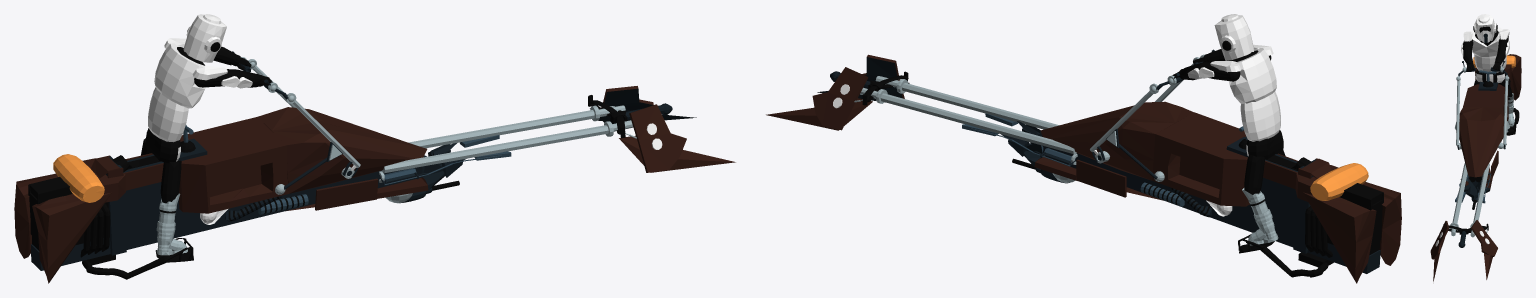
3 views of the same model, side by side, from view 1: azimuth 30°, elevation 25°; view 2: azimuth 150°, elevation 25°; view 3: azimuth 270°, elevation 25° (orthographic). The views are drawn at different scales.
Parts seen in each view (by area): view 1: group1816002256, group1112885490, group951486864, group912648688, group1312874558, group890993269, group1796693711, group1976790903, group56846059, group1101889256, group330822891, group992727759 (+17 smaller); view 2: group1816002256, group992727759, group951486864, group912648688, group540495380, group890993269, group1976790903, group1796693711, group330822891, group1312874558, group56846059, group1101889256 (+16 smaller); view 3: group992727759, group951486864, group1112885490, group1816002256, group912648688, group56846059, group1976790903, group1319191032, group540495380, group257581976, group1478896023, group1516494605 (+10 smaller).
Boxes of the visible parts, bbox=[...] form: group1816002256: bbox=[179, 117, 288, 213]; group1112885490: bbox=[272, 121, 427, 193]; group951486864: bbox=[588, 86, 735, 172]; group912648688: bbox=[382, 110, 608, 173]; group1312874558: bbox=[32, 192, 111, 283]; group890993269: bbox=[31, 166, 422, 270]; group1796693711: bbox=[123, 154, 180, 249]; group1976790903: bbox=[154, 43, 205, 108]; group56846059: bbox=[183, 14, 226, 62]; group1101889256: bbox=[53, 154, 104, 202]; group330822891: bbox=[148, 87, 188, 142]; group992727759: bbox=[258, 107, 419, 146]; group1816002256: bbox=[1152, 112, 1249, 206]; group992727759: bbox=[1040, 109, 1174, 180]; group951486864: bbox=[766, 54, 909, 130]; group912648688: bbox=[880, 83, 1076, 154]; group540495380: bbox=[1303, 192, 1376, 283]; group890993269: bbox=[1043, 146, 1380, 273]; group1976790903: bbox=[1228, 48, 1276, 103]; group1796693711: bbox=[1249, 154, 1297, 246]; group330822891: bbox=[1240, 91, 1280, 141]; group1312874558: bbox=[1362, 182, 1401, 265]; group56846059: bbox=[1214, 14, 1254, 60]; group1101889256: bbox=[1310, 163, 1368, 200]; group992727759: bbox=[1475, 107, 1503, 177]; group951486864: bbox=[1430, 220, 1497, 281]; group1112885490: bbox=[1459, 107, 1482, 177]; group1816002256: bbox=[1463, 84, 1508, 121]; group912648688: bbox=[1452, 163, 1489, 226]; group56846059: bbox=[1473, 14, 1497, 43]; group1976790903: bbox=[1471, 27, 1502, 56]; group1319191032: bbox=[1492, 29, 1509, 70]; group540495380: bbox=[1508, 54, 1521, 100]; group257581976: bbox=[1461, 31, 1474, 71]; group1478896023: bbox=[1490, 60, 1509, 149]; group1516494605: bbox=[1455, 61, 1475, 149].
Bounding box in the file's own units: 1.95 × 0.6599 × 0.404.
